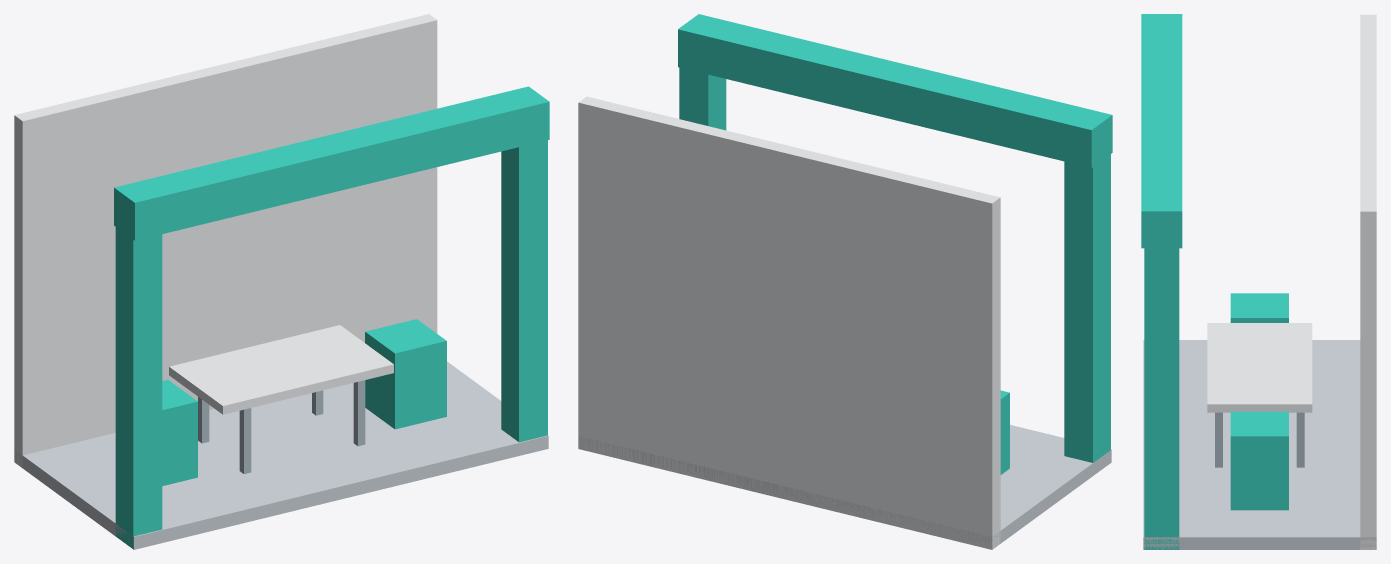
The picture shows the model from 3 angles, left to right: view 1: azimuth 30°, elevation 25°; view 2: azimuth 150°, elevation 25°; view 3: azimuth 270°, elevation 25°; orthographic projection. The views are drawn at different scales.
Parts seen in each view (by area): view 1: Exhibition Booth Concept; view 2: Exhibition Booth Concept; view 3: Exhibition Booth Concept.
Part boxes in pixels (bbox=[...]): Exhibition Booth Concept: bbox=[14, 14, 549, 549]; Exhibition Booth Concept: bbox=[578, 14, 1112, 549]; Exhibition Booth Concept: bbox=[1141, 14, 1376, 549].
Bounding box in the file's own units: 4 × 3.2 × 2.01.
